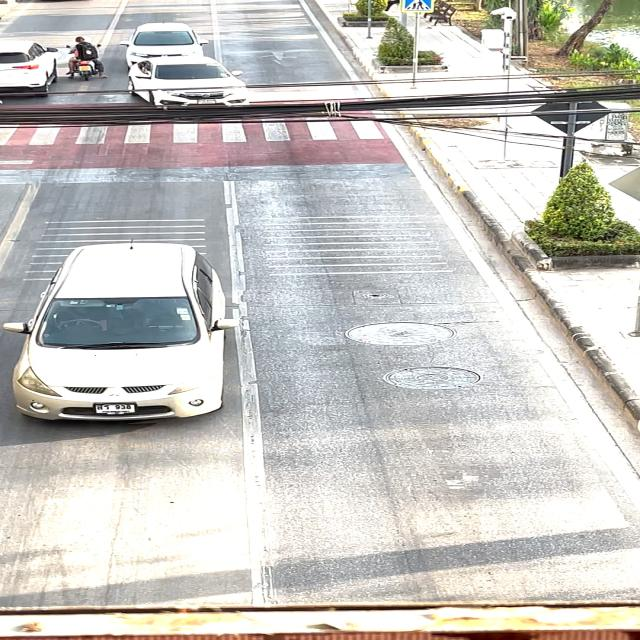car: (6, 232, 260, 438), (122, 61, 274, 115), (122, 13, 210, 68)
